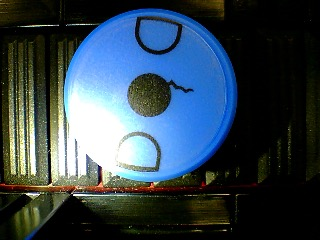CRACK: (63, 7, 238, 181)
